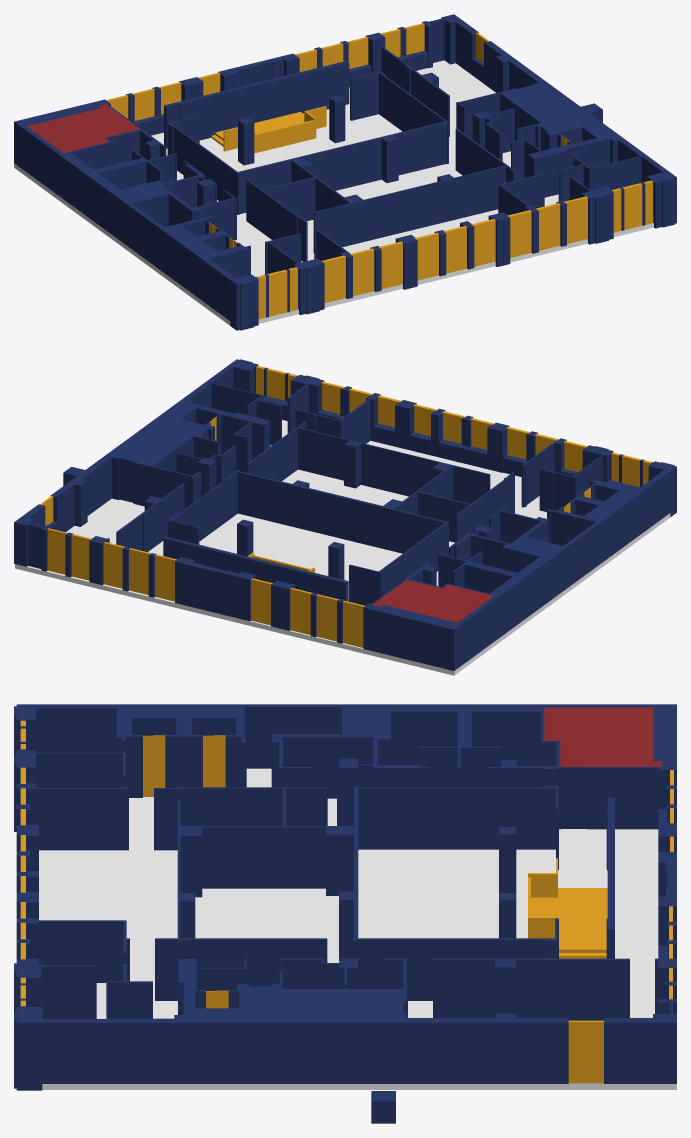
Rendered from 16W 8th Floor.fbx.
3 views of the same model, one above another, from view 1: azimuth 30°, elevation 25°; view 2: azimuth 150°, elevation 25°; view 3: azimuth 270°, elevation 25° (orthographic). The views are drawn at different scales.
Visible parts, largest first — view 1: Walls, Interior Member, Object_111, Floor; view 2: Walls, Interior Member, Object_111, Floor; view 3: Walls, Object_111, Interior Member, Floor.
Part boxes in pixels (x1=…): Walls: x1=14, y1=14, x2=676, y2=330; Interior Member: x1=106, y1=23, x2=652, y2=319; Object_111: x1=14, y1=60, x2=653, y2=325; Floor: x1=27, y1=104, x2=139, y2=153; Walls: x1=14, y1=359, x2=676, y2=670; Interior Member: x1=40, y1=366, x2=652, y2=647; Object_111: x1=15, y1=420, x2=670, y2=675; Floor: x1=372, y1=580, x2=493, y2=622; Walls: x1=14, y1=704, x2=676, y2=1123; Object_111: x1=39, y1=768, x2=676, y2=1089; Interior Member: x1=20, y1=720, x2=673, y2=1083; Floor: x1=544, y1=707, x2=662, y2=766.
Size of the model in its own units: 1326 by 1057 by 120.
